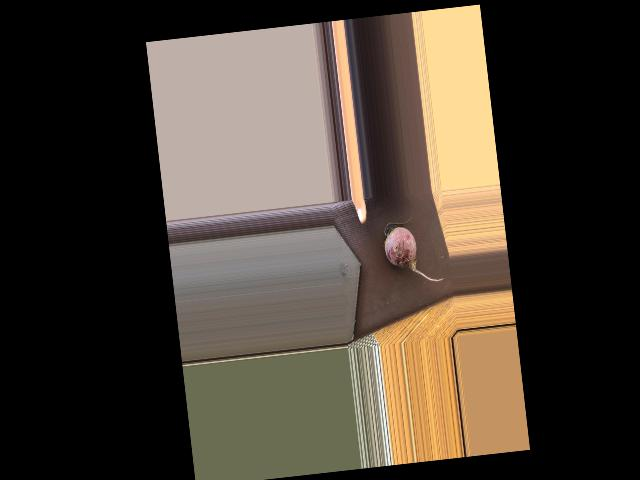beet: (381, 212, 443, 287)
